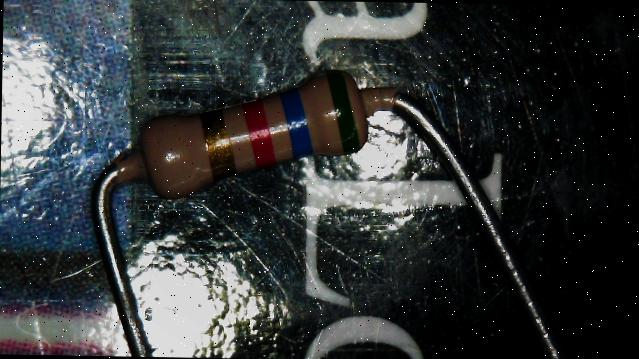blue: (280, 88, 314, 158)
gold: (200, 110, 236, 178)
green: (326, 71, 360, 153)
red: (243, 98, 276, 167)
resistor: (107, 52, 387, 232)
